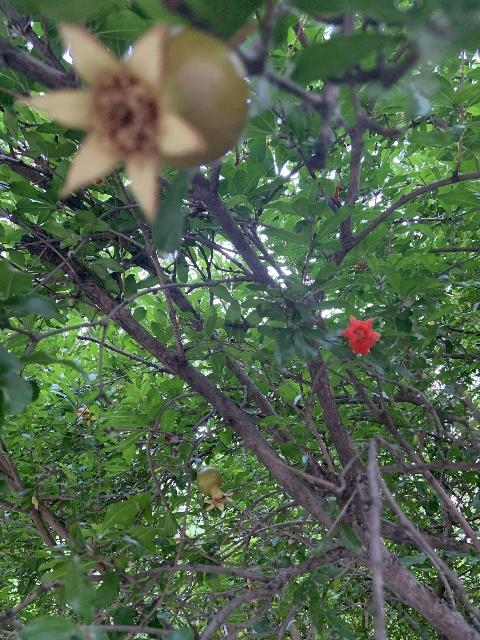early-fruit: (24, 16, 251, 225), (196, 467, 236, 512)
flower: (339, 315, 380, 355)
